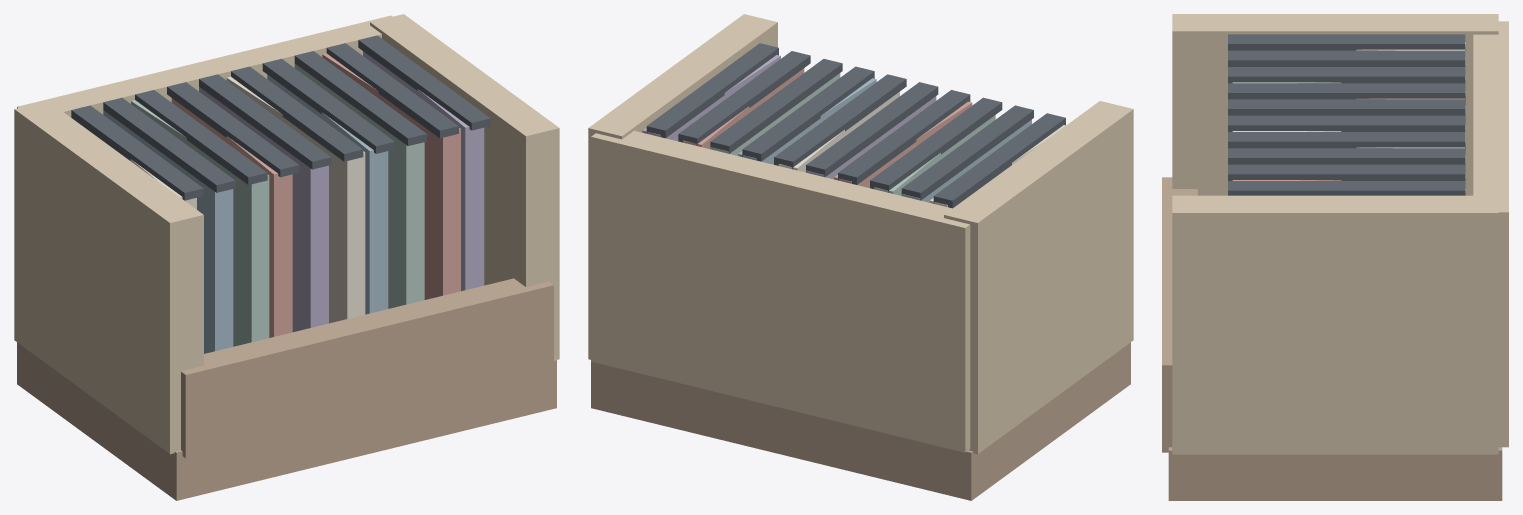
Rendered from vinyl_crate.glb.
The picture shows the model from 3 angles, left to right: view 1: azimuth 30°, elevation 25°; view 2: azimuth 150°, elevation 25°; view 3: azimuth 270°, elevation 25°; orthographic projection. The views are drawn at different scales.
Visible parts, largest first — view 1: OakSide_-0.29, FrontPanel, CrateBottom, OakSide_0.29, VinylSleeve_5, VinylSleeve_2, VinylSleeve_8, VinylSleeve_7, VinylSleeve_4, RearPanel, VinylSleeve_1, VinylSleeve_3 (+12 smaller); view 2: RearPanel, OakSide_-0.29, CrateBottom, OakSide_0.29, RecordEdge_4, RecordEdge_1, RecordEdge_7, RecordEdge_5, RecordEdge_8, RecordEdge_9, RecordEdge_6, RecordEdge_0 (+11 smaller); view 3: OakSide_0.29, OakSide_-0.29, CrateBottom, RearPanel, RecordEdge_4, RecordEdge_7, RecordEdge_1, RecordEdge_0, RecordEdge_2, RecordEdge_5, RecordEdge_8, RecordEdge_3 (+3 smaller).
Part boxes in pixels (x1,y1,x2,y2): OakSide_-0.29: [14, 101, 203, 454]; FrontPanel: [181, 278, 553, 458]; CrateBottom: [17, 342, 556, 500]; OakSide_0.29: [370, 14, 559, 359]; VinylSleeve_5: [226, 76, 365, 323]; VinylSleeve_2: [131, 100, 269, 346]; VinylSleeve_8: [322, 53, 460, 299]; VinylSleeve_7: [294, 63, 424, 308]; VinylSleeve_4: [199, 87, 328, 332]; RearPanel: [17, 15, 392, 117]; VinylSleeve_1: [103, 110, 233, 353]; VinylSleeve_3: [171, 98, 292, 337]; RearPanel: [591, 130, 970, 452]; OakSide_-0.29: [944, 101, 1133, 454]; CrateBottom: [591, 342, 1130, 500]; OakSide_0.29: [588, 14, 777, 359]; RecordEdge_4: [806, 82, 938, 176]; RecordEdge_1: [901, 105, 1033, 200]; RecordEdge_7: [710, 59, 842, 153]; RecordEdge_5: [774, 74, 906, 169]; RecordEdge_8: [678, 51, 810, 145]; RecordEdge_9: [646, 43, 778, 138]; RecordEdge_6: [742, 66, 874, 161]; RecordEdge_0: [933, 113, 1065, 208]; OakSide_0.29: [1172, 195, 1498, 454]; OakSide_-0.29: [1172, 14, 1498, 195]; CrateBottom: [1168, 447, 1502, 500]; RearPanel: [1473, 21, 1508, 447]; RecordEdge_4: [1228, 99, 1465, 115]; RecordEdge_7: [1228, 148, 1465, 164]; RecordEdge_1: [1228, 50, 1465, 66]; RecordEdge_0: [1228, 34, 1465, 50]; RecordEdge_2: [1228, 67, 1465, 83]; RecordEdge_5: [1228, 115, 1465, 131]; RecordEdge_8: [1228, 164, 1465, 180]; RecordEdge_3: [1228, 83, 1465, 99].
Size of the model in its own units: 0.635 by 0.4515 by 0.468.
